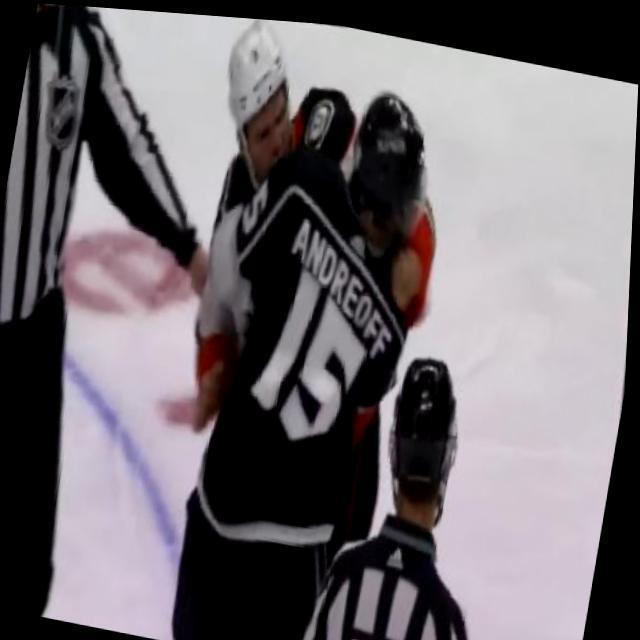fight: (122, 8, 491, 574)
